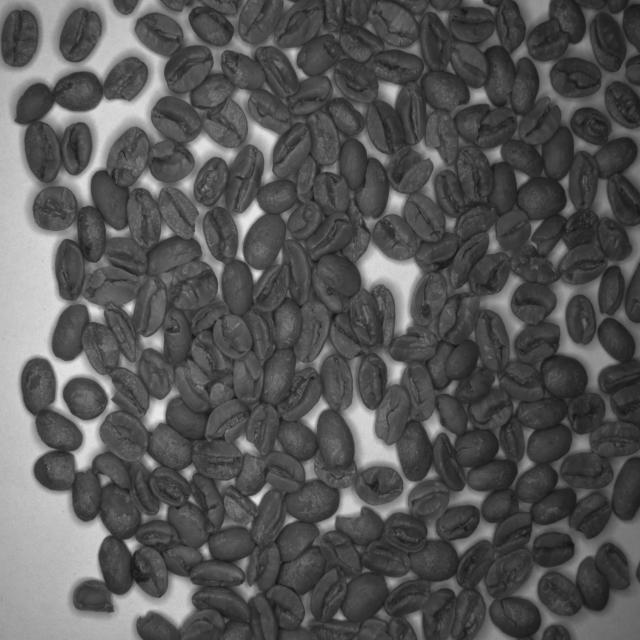bad: (105, 125, 150, 188), (225, 142, 264, 214), (82, 264, 140, 310), (305, 210, 354, 264), (100, 408, 148, 463), (58, 6, 103, 64), (163, 43, 214, 94), (22, 120, 62, 185), (150, 94, 202, 144), (168, 259, 218, 311), (278, 364, 322, 422), (588, 9, 628, 72), (254, 44, 299, 100), (102, 300, 142, 363), (189, 584, 251, 624), (368, 2, 419, 50), (101, 53, 149, 104), (147, 420, 194, 472), (549, 55, 602, 101), (202, 96, 248, 149), (292, 299, 330, 363), (157, 185, 200, 241), (250, 486, 287, 551), (484, 546, 533, 595), (385, 144, 433, 194), (371, 212, 419, 262), (270, 122, 312, 179), (393, 80, 428, 148), (188, 472, 225, 536), (147, 136, 196, 184), (202, 397, 250, 446), (134, 10, 184, 57), (420, 68, 471, 114), (125, 187, 162, 250), (431, 431, 468, 494), (403, 189, 446, 243), (81, 320, 121, 378), (309, 567, 349, 625), (355, 156, 390, 222), (374, 380, 409, 446), (274, 1, 323, 48), (455, 144, 494, 203), (516, 96, 562, 146), (510, 242, 560, 288), (31, 182, 77, 232), (166, 498, 212, 548), (448, 231, 489, 287), (399, 361, 436, 423), (132, 274, 168, 337), (294, 31, 343, 77), (332, 57, 378, 106), (280, 236, 312, 306), (476, 309, 511, 373), (558, 451, 614, 491), (438, 291, 480, 344), (238, 0, 286, 46), (510, 282, 558, 328), (537, 570, 583, 618), (189, 330, 233, 380), (487, 598, 542, 638), (108, 366, 150, 418), (454, 537, 495, 590), (409, 270, 447, 327), (466, 387, 514, 432), (130, 546, 170, 600), (248, 88, 292, 137), (467, 249, 511, 298), (355, 463, 404, 507), (483, 44, 516, 109), (54, 237, 86, 304), (372, 46, 424, 87), (593, 539, 633, 592), (190, 437, 243, 477), (414, 230, 460, 276), (568, 491, 612, 539), (498, 360, 546, 404), (319, 530, 363, 578), (389, 324, 439, 366), (360, 540, 412, 580), (419, 11, 452, 74), (320, 353, 354, 414), (220, 49, 266, 94), (499, 136, 544, 182), (383, 509, 428, 555), (425, 108, 460, 167), (406, 478, 449, 526), (557, 244, 607, 285), (567, 148, 599, 212), (336, 24, 387, 64), (305, 110, 340, 168), (203, 206, 238, 264), (604, 172, 640, 228), (339, 197, 370, 261), (526, 18, 570, 63), (138, 346, 174, 401), (188, 5, 234, 48), (286, 74, 334, 115), (310, 266, 351, 314), (420, 584, 455, 640), (334, 506, 384, 545), (244, 302, 277, 361), (252, 262, 290, 313), (474, 106, 518, 150), (262, 450, 307, 493), (148, 465, 191, 510), (328, 314, 370, 360), (264, 584, 306, 630), (514, 322, 561, 363), (313, 168, 350, 220), (587, 421, 640, 457), (246, 402, 280, 458), (231, 350, 266, 404), (451, 586, 486, 640), (12, 80, 53, 126), (190, 71, 237, 111), (352, 285, 382, 347), (76, 204, 108, 262), (568, 106, 613, 147), (212, 314, 253, 359), (193, 155, 229, 206), (128, 462, 162, 516), (62, 120, 94, 177), (384, 576, 432, 614), (188, 559, 245, 591), (246, 542, 281, 594), (104, 235, 148, 276), (358, 352, 388, 412), (453, 429, 499, 468), (530, 212, 568, 259), (605, 78, 640, 129), (511, 56, 540, 117), (71, 576, 115, 616), (173, 364, 208, 414), (234, 448, 269, 498), (450, 6, 496, 44), (596, 215, 633, 262), (71, 466, 102, 522), (494, 1, 526, 55), (371, 281, 396, 350), (90, 449, 132, 490), (328, 94, 366, 139), (436, 503, 481, 541), (565, 391, 606, 432), (452, 101, 490, 145), (313, 451, 357, 489), (162, 309, 192, 364), (561, 207, 599, 250), (532, 530, 575, 568), (434, 168, 466, 219), (566, 293, 596, 347), (493, 512, 533, 552), (178, 606, 225, 640), (455, 202, 497, 240), (223, 484, 260, 527), (161, 542, 204, 578), (135, 607, 181, 640), (434, 392, 468, 436), (454, 368, 496, 403), (597, 358, 640, 392), (598, 262, 624, 318), (188, 298, 229, 332), (324, 0, 368, 31), (136, 519, 178, 551), (498, 415, 526, 462), (287, 202, 322, 239), (481, 490, 520, 523), (610, 384, 640, 426), (296, 154, 321, 204), (308, 618, 358, 640), (210, 372, 236, 408), (357, 614, 393, 640), (387, 615, 418, 640)
good: (242, 211, 286, 271), (89, 166, 130, 230), (394, 416, 433, 481), (341, 570, 388, 623), (0, 6, 40, 68), (99, 481, 141, 540), (364, 98, 406, 156), (286, 478, 340, 523), (315, 410, 356, 469), (98, 533, 135, 596), (51, 302, 90, 361), (516, 174, 566, 220), (408, 536, 458, 582), (35, 408, 83, 455), (539, 352, 588, 398), (51, 70, 103, 112), (611, 452, 640, 526), (21, 356, 56, 416), (164, 393, 208, 440), (598, 313, 638, 364), (315, 252, 361, 296), (62, 377, 108, 421), (274, 520, 320, 564), (577, 554, 611, 613), (206, 524, 256, 564), (592, 136, 638, 179), (280, 551, 326, 594), (541, 125, 575, 183), (32, 450, 78, 492), (263, 344, 295, 404), (530, 486, 578, 526), (449, 41, 488, 90), (146, 234, 202, 268), (276, 418, 320, 461), (466, 457, 518, 493), (515, 464, 559, 506), (222, 259, 254, 316), (516, 398, 568, 432), (548, 0, 586, 46), (528, 425, 574, 463), (245, 592, 280, 640), (494, 209, 533, 251), (272, 296, 302, 350), (338, 137, 367, 191), (491, 160, 518, 216), (257, 180, 297, 216), (445, 338, 478, 380), (427, 340, 453, 390), (323, 297, 325, 299)
